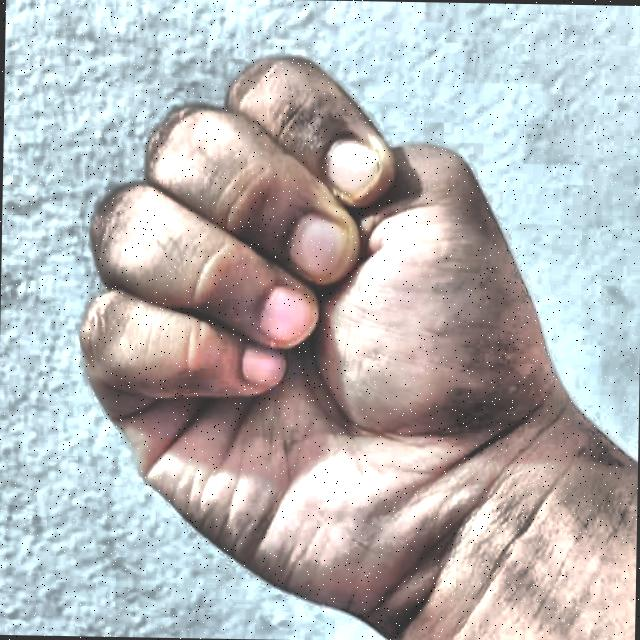To: (56, 33, 577, 640)
